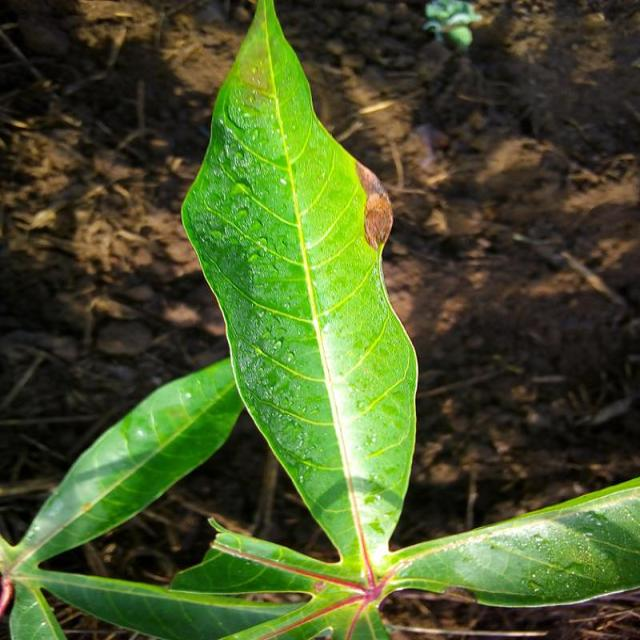cassava leaf: (181, 0, 421, 581)
